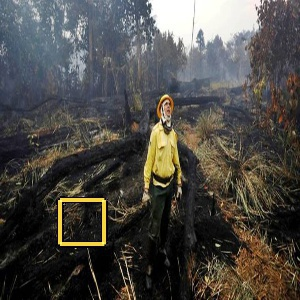square: (55, 195, 109, 249)
